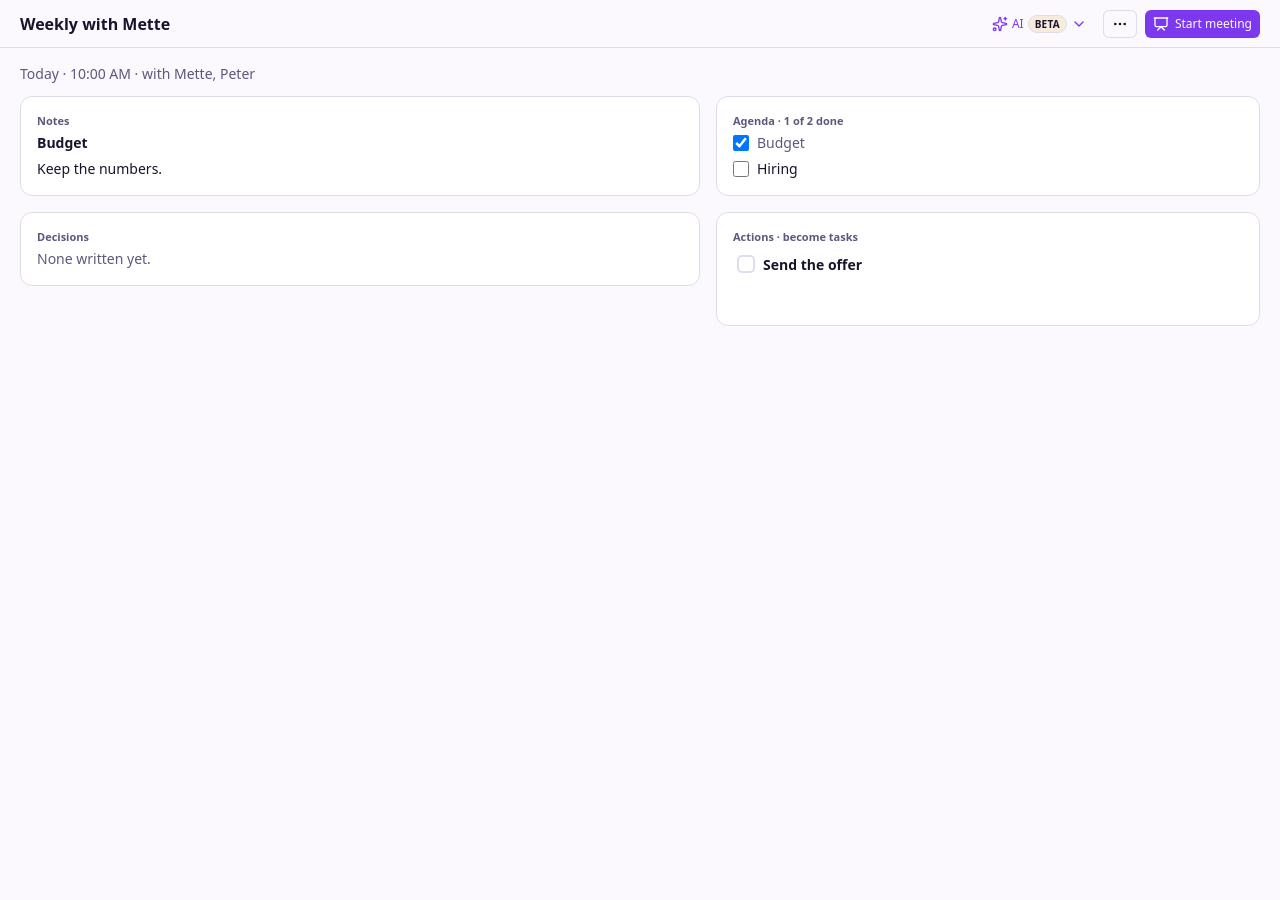
Test: The Meetings area › does not save a time that cannot be read
Click the button named "More for this meeting": (1120,24) x1=1103 y1=10 x2=1137 y2=38
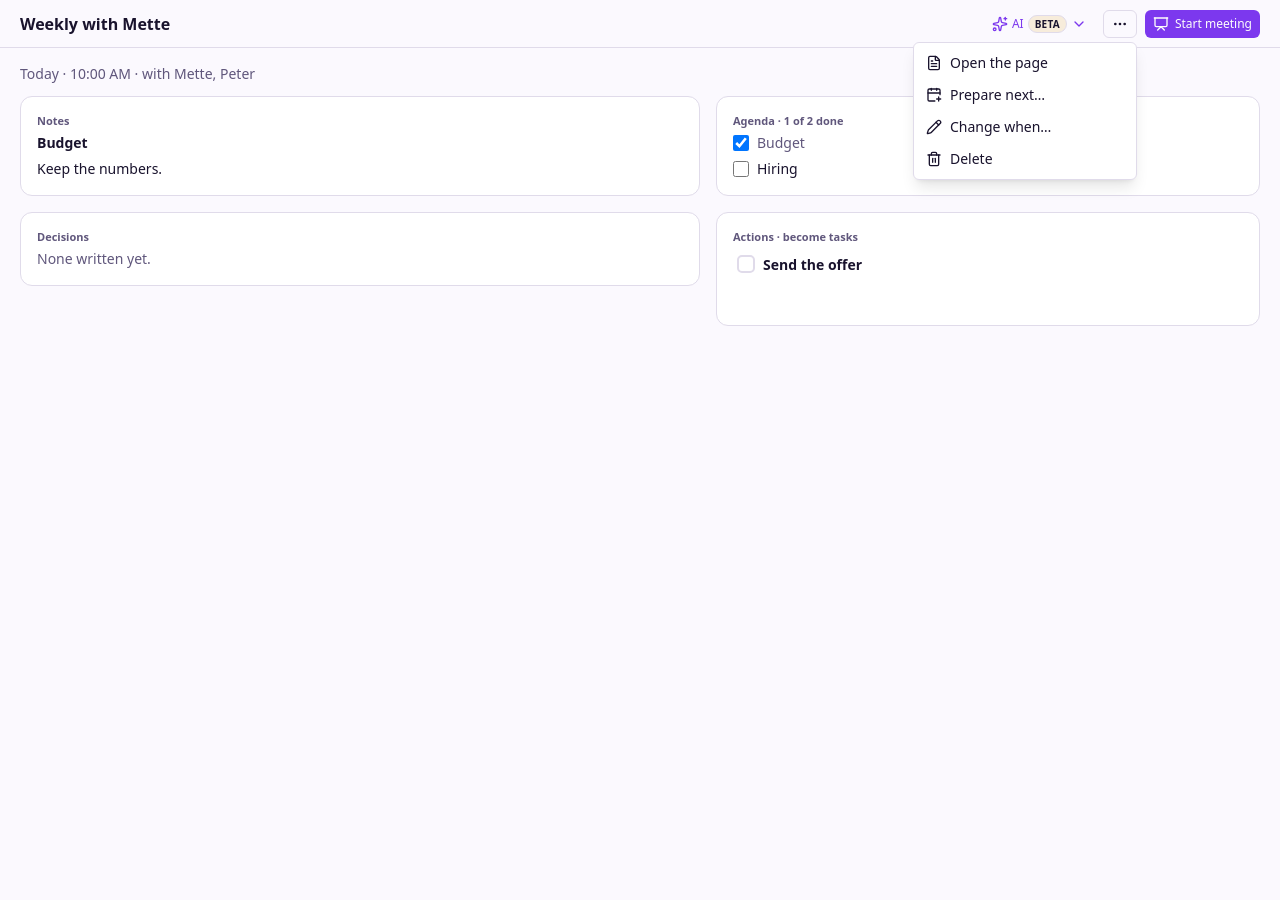
Click the menu item "Change when…": (989,126) x1=926 y1=117 x2=1051 y2=136
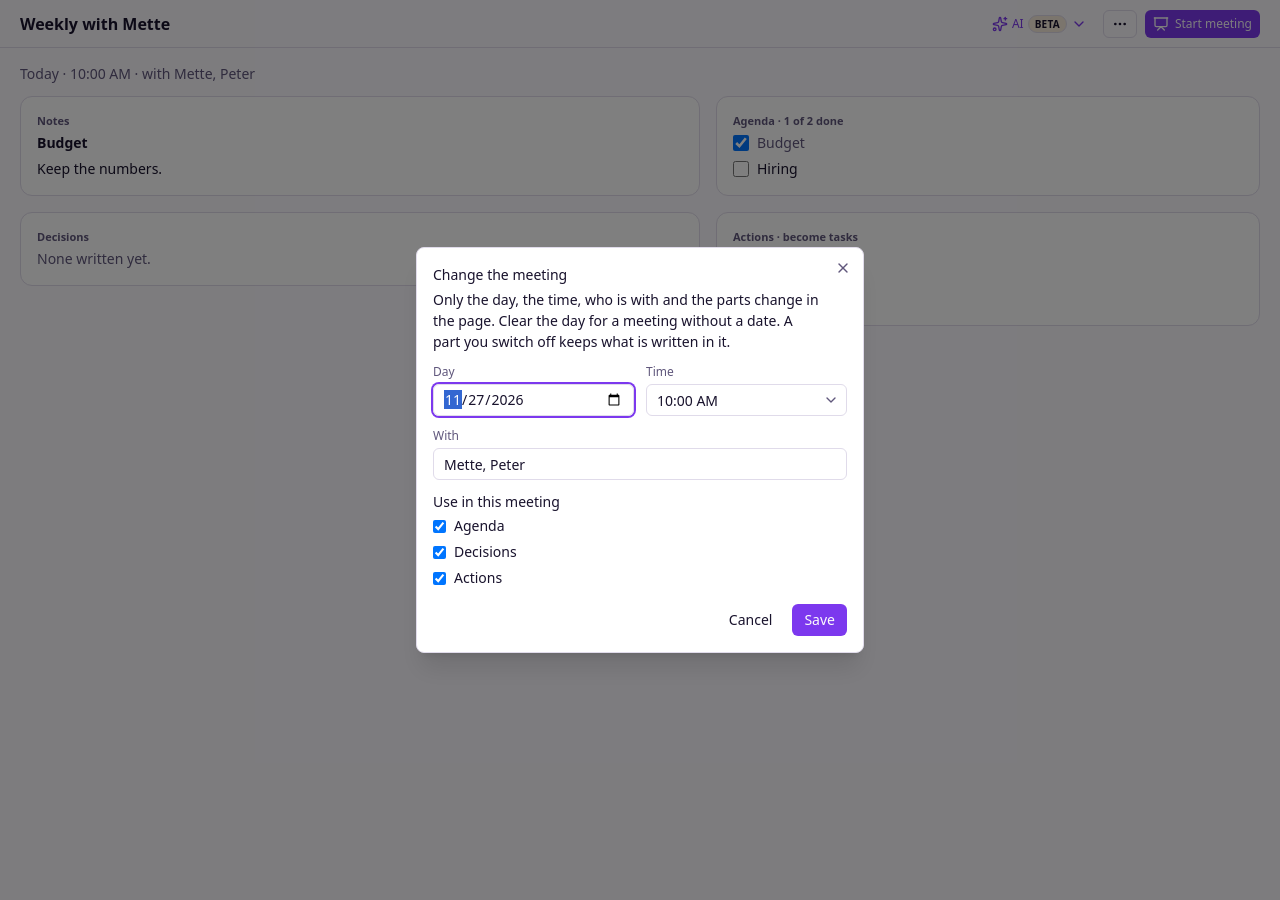
Replace the text in the dropdown labelled "Time" with "25:00": (746,400) x1=646 y1=384 x2=847 y2=416
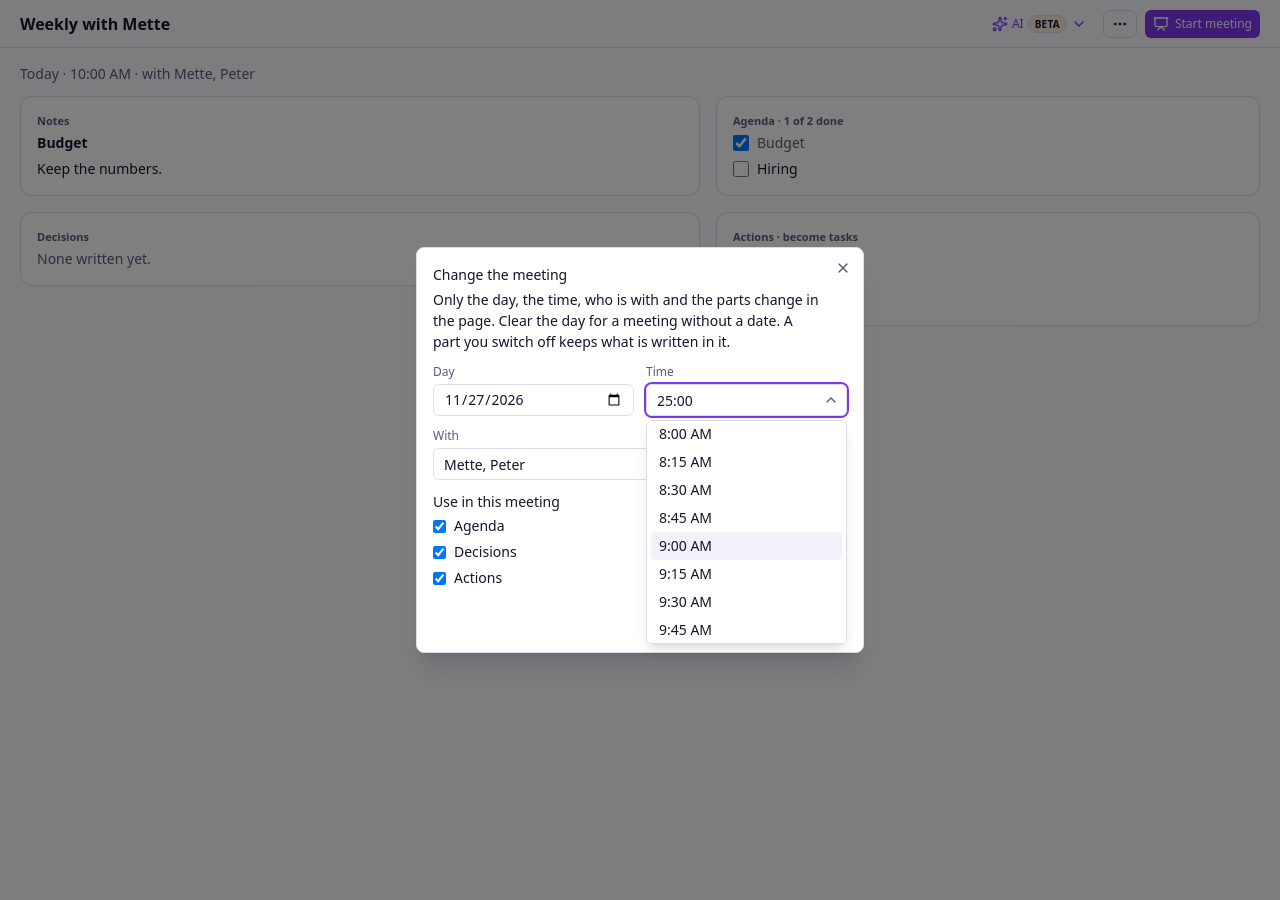
Expected: the button "Save" is disabled, x1=792 y1=604 x2=847 y2=636
